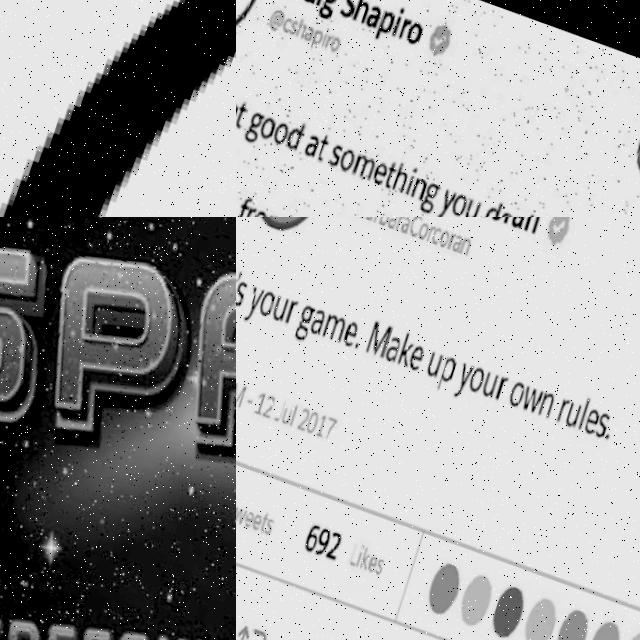0: (0, 0, 236, 217)
2: (299, 520, 320, 553)
3: (320, 415, 336, 441)
5: (310, 522, 331, 559)
A: (306, 306, 326, 337), (380, 333, 400, 364), (450, 232, 462, 254), (508, 217, 528, 228), (397, 217, 410, 231), (384, 217, 398, 230)
B: (376, 217, 393, 225)
C: (404, 217, 423, 236), (429, 223, 443, 243)
E: (338, 317, 361, 349), (404, 341, 425, 371), (579, 403, 600, 433), (246, 511, 262, 533), (239, 508, 253, 530), (362, 552, 376, 574)
G: (290, 301, 315, 341)
I: (351, 542, 363, 569)
J: (270, 395, 286, 423)
K: (394, 330, 416, 366), (356, 545, 369, 570)
L: (574, 395, 589, 428), (344, 539, 360, 567), (286, 403, 297, 426)
M: (362, 318, 392, 358), (318, 311, 346, 343), (236, 381, 245, 408)
N: (534, 388, 555, 418), (456, 233, 472, 258), (521, 217, 541, 231)
O: (503, 377, 526, 408), (255, 286, 277, 318), (464, 363, 485, 393), (435, 225, 451, 247), (415, 219, 429, 239)
P: (434, 355, 457, 391)
R: (554, 395, 570, 422), (492, 372, 508, 399), (283, 298, 299, 323), (444, 228, 457, 250), (424, 223, 436, 240), (500, 217, 517, 223), (394, 217, 403, 228), (371, 217, 383, 221)
S: (589, 408, 610, 438), (236, 278, 248, 308), (370, 554, 384, 576), (260, 517, 273, 535)
T: (255, 510, 269, 533)
U: (477, 368, 498, 399), (269, 294, 288, 322), (423, 349, 442, 376), (562, 399, 581, 426), (277, 404, 293, 426)
W: (516, 382, 542, 412), (236, 503, 246, 526)
Y: (239, 284, 264, 325), (449, 361, 473, 400)
